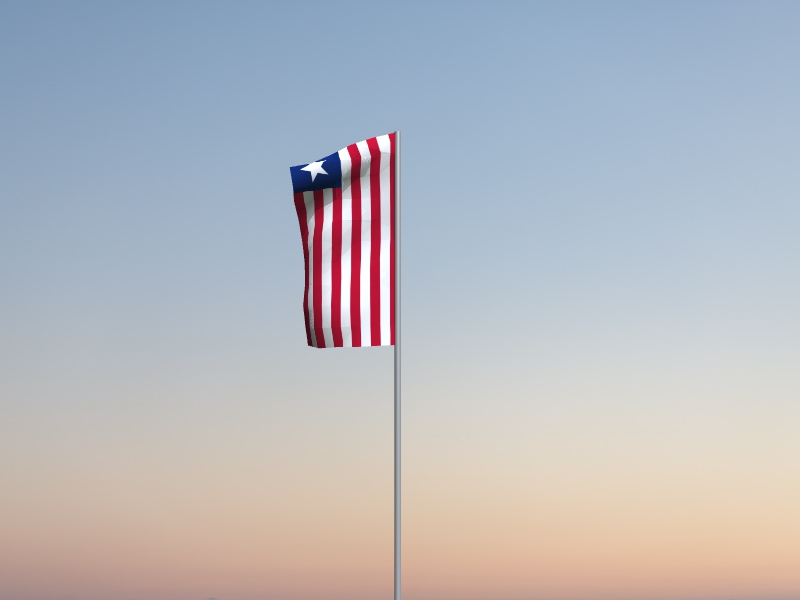lr: (289, 133, 395, 350)
